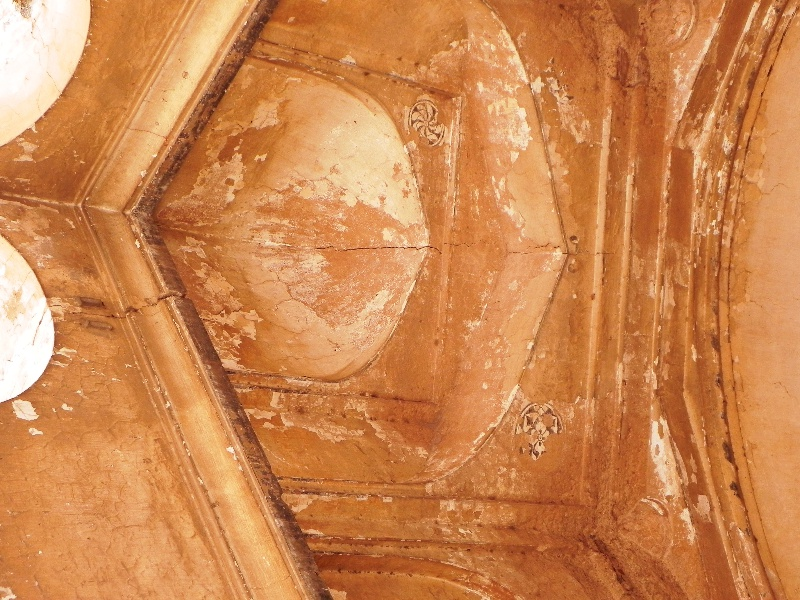Crack: (321, 242, 440, 250)
